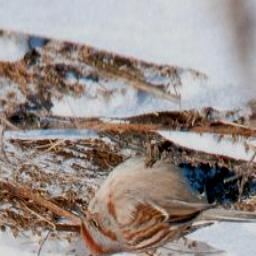Sparrow: (74, 132, 256, 256)
